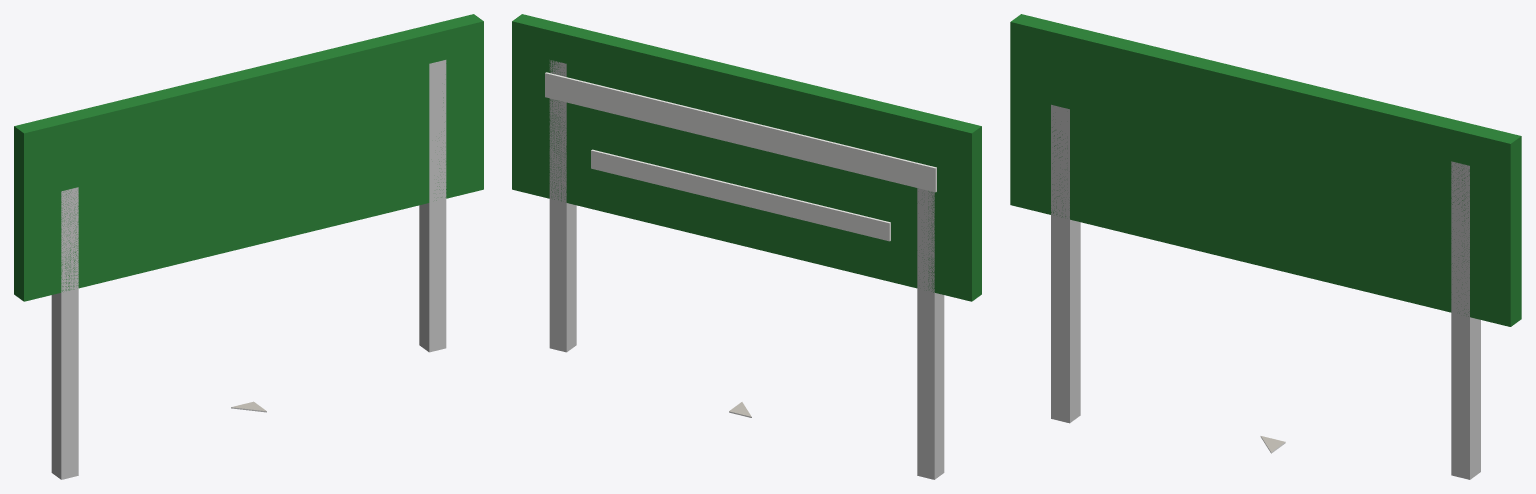
File: pp_bonbini.glb
3 renders of one model, left to right at view 1: azimuth 30°, elevation 25°; view 2: azimuth 150°, elevation 25°; view 3: azimuth 330°, elevation 25°, orthographic. The views are drawn at different scales.
Parts seen in each view (by area): view 1: pp_bonbini_lod0; view 2: pp_bonbini_lod0; view 3: pp_bonbini_lod0.
Part boxes in pixels (box(x1,y1,x2,y2)): pp_bonbini_lod0: box(14, 14, 483, 479); pp_bonbini_lod0: box(512, 14, 981, 479); pp_bonbini_lod0: box(1010, 14, 1521, 479).
Size of what is drawn, in the model's own units: 4 by 2.96 by 0.2002.
